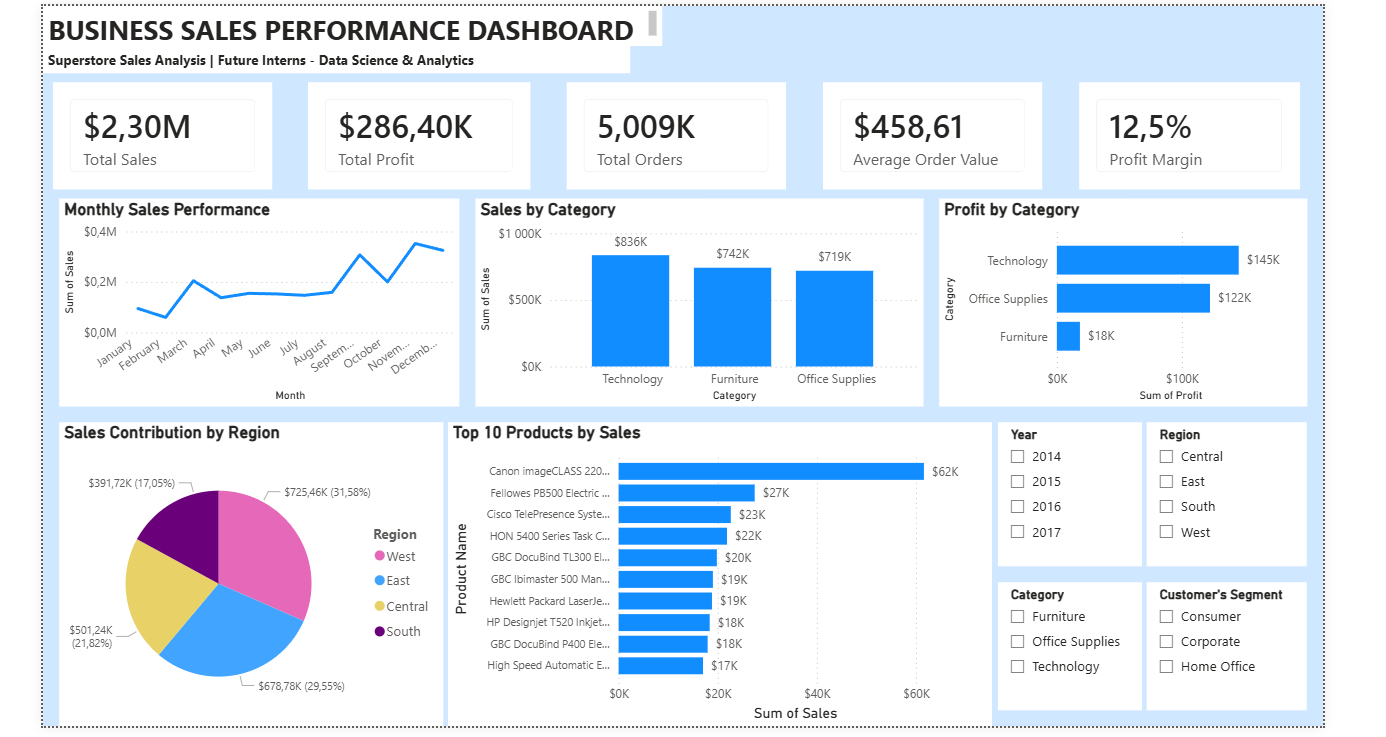

Layout of this report page (visuals, bound fields, positions):
{"tool":"powerbi","page":{"name":"Sales Performance Dashboard","canvas":[1280,720],"ordinal":0},"visuals":[{"type":"textbox","box":[0,0,618.9,39.8],"z":0},{"type":"textbox","box":[0,39.8,587.3,27.4],"z":1000},{"type":"lineChart","title":"Monthly Sales Performance","fields":{"Y":["Sum(Sample - Superstore.Sales)"],"Category":["Sample - Superstore.Order Date.Variation.Date Hierarchy.Month"]},"box":[16,192,400,208],"z":2000},{"type":"clusteredColumnChart","title":" Sales by Category","fields":{"Category":["Sample - Superstore.Category"],"Y":["Sum(Sample - Superstore.Sales)"]},"box":[432,192,448,208],"z":3000},{"type":"pieChart","title":" Sales Contribution by Region","fields":{"Category":["Sample - Superstore.Region"],"Y":["Sum(Sample - Superstore.Sales)"]},"box":[16,416,384,304],"z":4000},{"type":"clusteredBarChart","title":"Top 10 Products by Sales","fields":{"Category":["Sample - Superstore.Product Name"],"Y":["Sum(Sample - Superstore.Sales)"]},"box":[405.3,416,544,304],"z":5000},{"type":"slicer","fields":{"Values":["Sample - Superstore.Order Date.Variation.Date Hierarchy.Year"]},"box":[954.7,416,144,144],"z":6000},{"type":"slicer","fields":{"Values":["Sample - Superstore.Region"]},"box":[1104,416,160,144],"z":7000},{"type":"slicer","fields":{"Values":["Sample - Superstore.Category"]},"box":[954.7,576,144,128],"z":8000},{"type":"slicer","fields":{"Values":["Sample - Superstore.Segment"]},"box":[1104,576,160,128],"z":9000},{"type":"cardVisual","title":"Sum Of Sales","fields":{"Data":["Sample - Superstore.Total Sales"]},"box":[9.6,76.8,219.6,107],"z":10000},{"type":"cardVisual","title":"Sum Of Profit","fields":{"Data":["Sample - Superstore.Total Profit"]},"box":[265.5,76.8,222.3,107],"z":11000},{"type":"cardVisual","title":"Total Orders","fields":{"Data":["Sample - Superstore.Total Orders"]},"box":[524.2,76.8,219.6,107],"z":12000},{"type":"cardVisual","title":"Average Order Value","fields":{"Data":["Sample - Superstore.Average Order Value"]},"box":[780.1,76.8,219.6,107],"z":13000},{"type":"cardVisual","title":"Profit Margin","fields":{"Data":["Sample - Superstore.Profit Margin"]},"box":[1036,76.8,220.9,107],"z":14000},{"type":"clusteredBarChart","title":" Profit by Category","fields":{"Category":["Sample - Superstore.Category"],"Y":["Sum(Sample - Superstore.Profit)"]},"box":[896,192,368,208],"z":15000}]}

Visuals, with their boxes on the page's 1280x720 design canvas (x1, y1, x2, y2). These are canvas units, not pixel positions in the 1386x737 screenshot, which may show the page scaled, cropped or inside an application window:
textbox: pyautogui.locateOnScreen(0, 0, 619, 40)
textbox: pyautogui.locateOnScreen(0, 40, 587, 67)
"Monthly Sales Performance" lineChart: pyautogui.locateOnScreen(16, 192, 416, 400)
" Sales by Category" clusteredColumnChart: pyautogui.locateOnScreen(432, 192, 880, 400)
" Sales Contribution by Region" pieChart: pyautogui.locateOnScreen(16, 416, 400, 720)
"Top 10 Products by Sales" clusteredBarChart: pyautogui.locateOnScreen(405, 416, 949, 720)
slicer - Sample - Superstore.Order Date.Variation.Date Hierarchy.Year: pyautogui.locateOnScreen(955, 416, 1099, 560)
slicer - Sample - Superstore.Region: pyautogui.locateOnScreen(1104, 416, 1264, 560)
slicer - Sample - Superstore.Category: pyautogui.locateOnScreen(955, 576, 1099, 704)
slicer - Sample - Superstore.Segment: pyautogui.locateOnScreen(1104, 576, 1264, 704)
"Sum Of Sales" cardVisual: pyautogui.locateOnScreen(10, 77, 229, 184)
"Sum Of Profit" cardVisual: pyautogui.locateOnScreen(266, 77, 488, 184)
"Total Orders" cardVisual: pyautogui.locateOnScreen(524, 77, 744, 184)
"Average Order Value" cardVisual: pyautogui.locateOnScreen(780, 77, 1000, 184)
"Profit Margin" cardVisual: pyautogui.locateOnScreen(1036, 77, 1257, 184)
" Profit by Category" clusteredBarChart: pyautogui.locateOnScreen(896, 192, 1264, 400)
